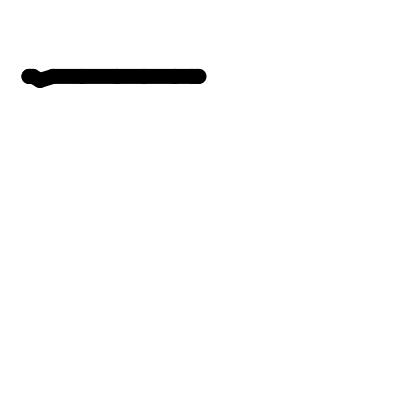minus: (21, 68, 208, 88)
